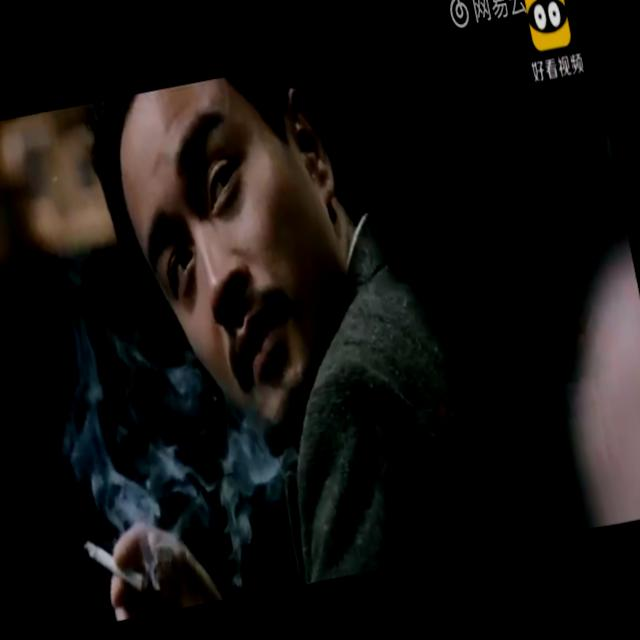cigarette: (82, 527, 152, 604)
